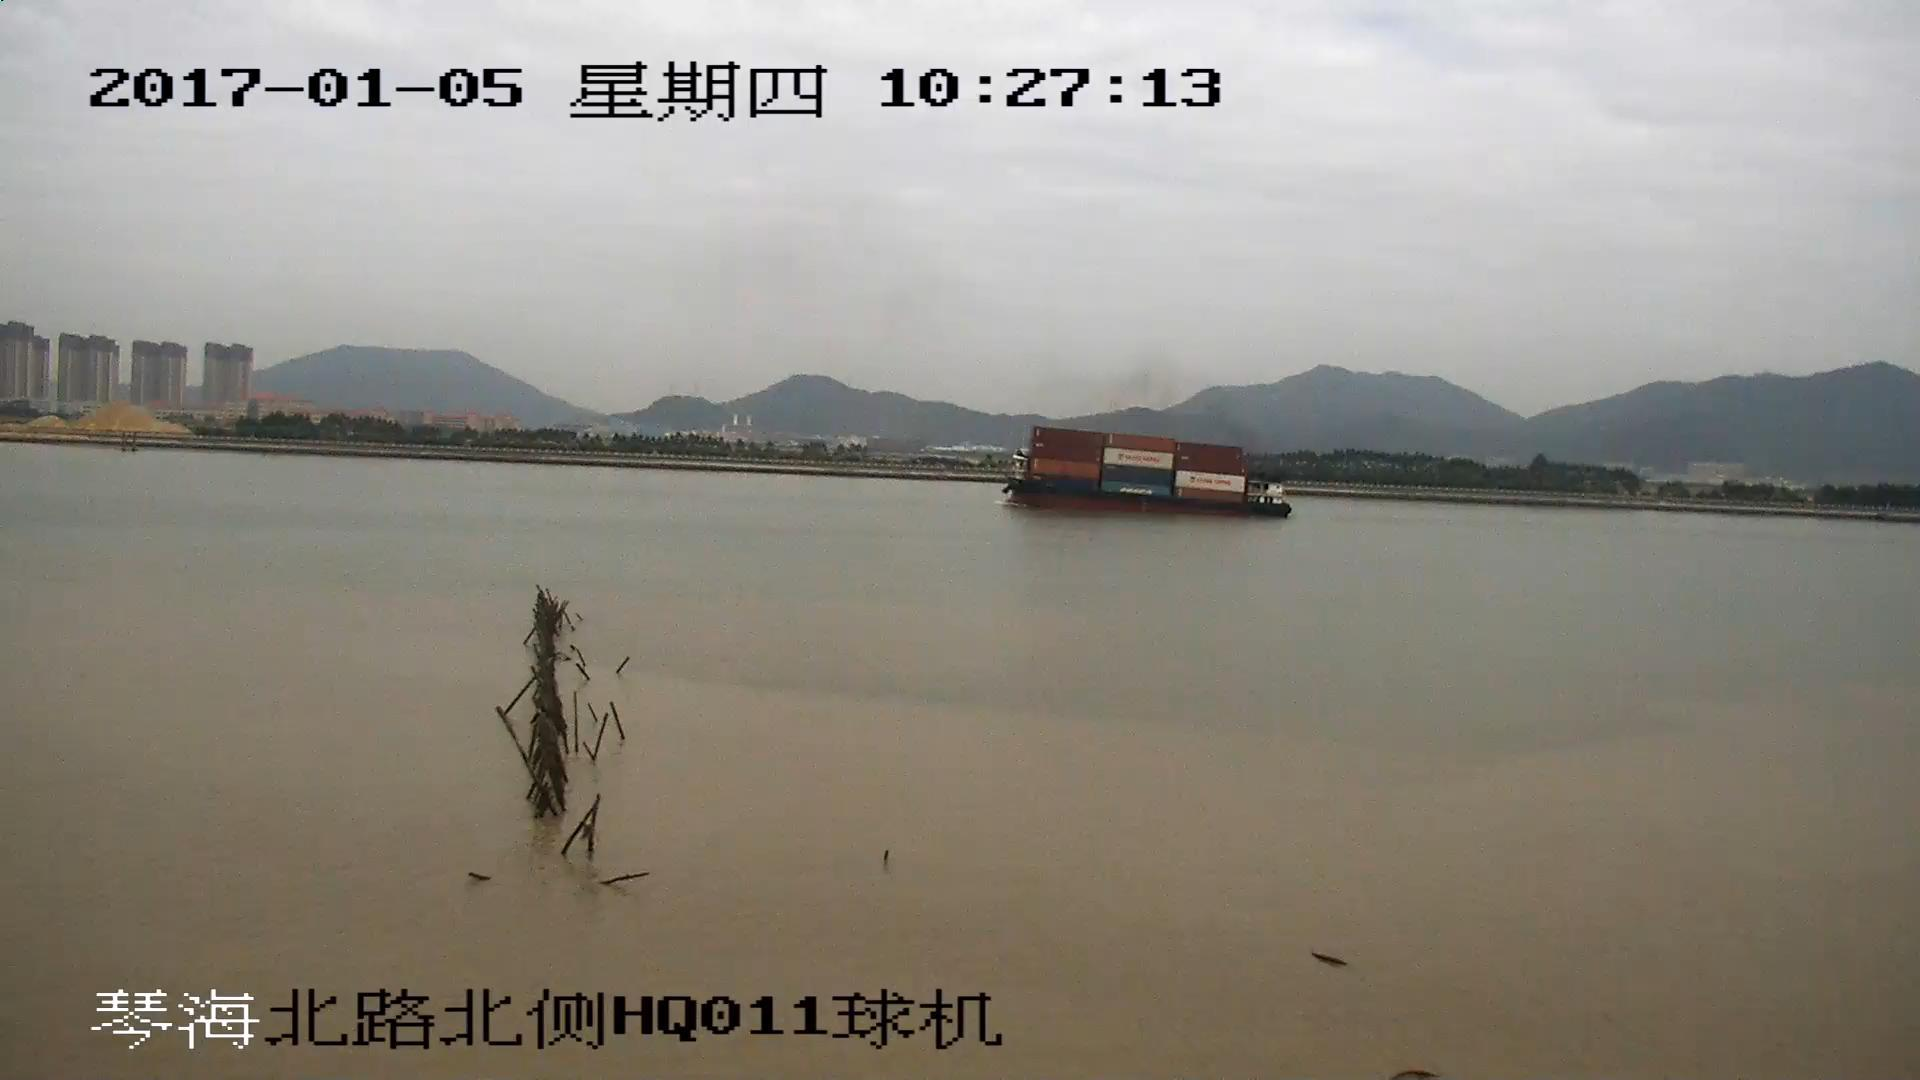Ship: (1002, 433, 1294, 517)
